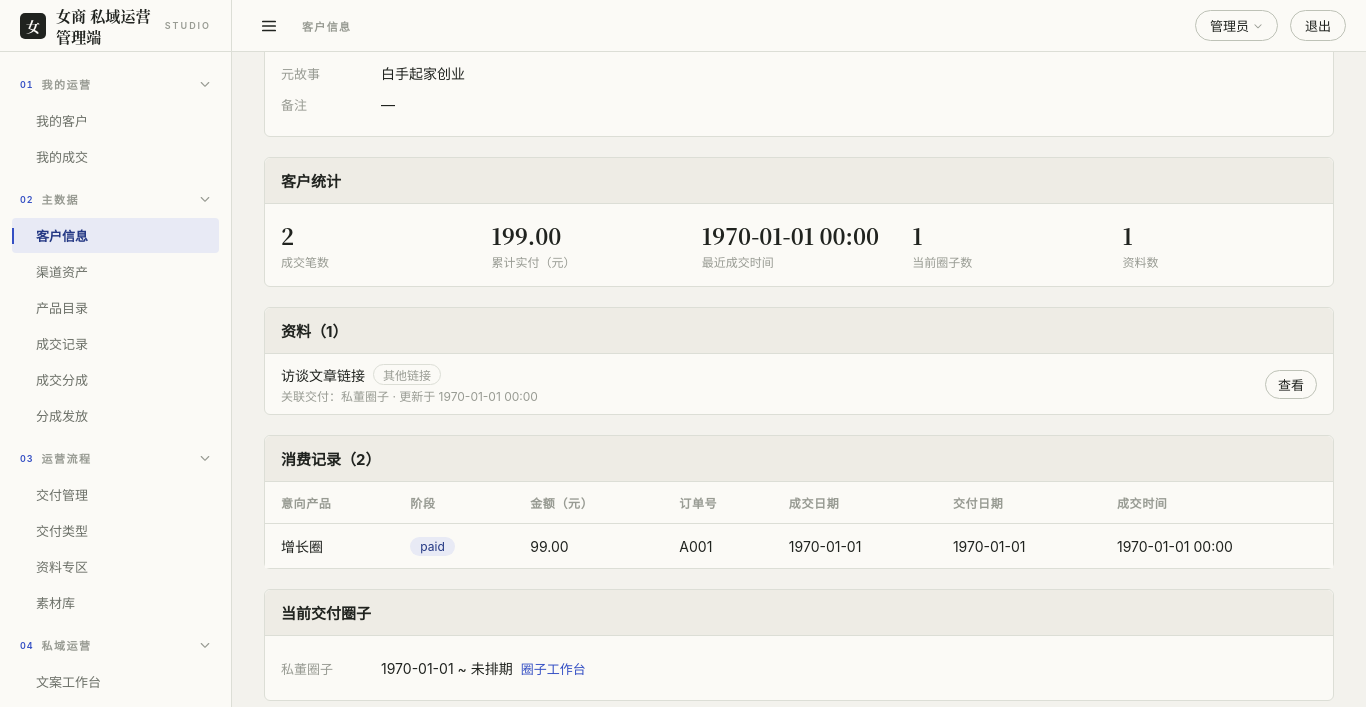
Test: 客户总览页 › K54 资料：统计区显示资料数，资料列表渲染并可打开查看弹窗
(page scrolled)
expect the text "资料数" is shown: met, box 1123,255 -> 1159,270
expect the 2nd text with class "stat-value" reads "1": met, box 1123,220 -> 1133,251
# 打开查看弹窗：先 GET /materials/41 拉全文
Click the button "查看" at [1291, 384], box 1265,370 -> 1317,398
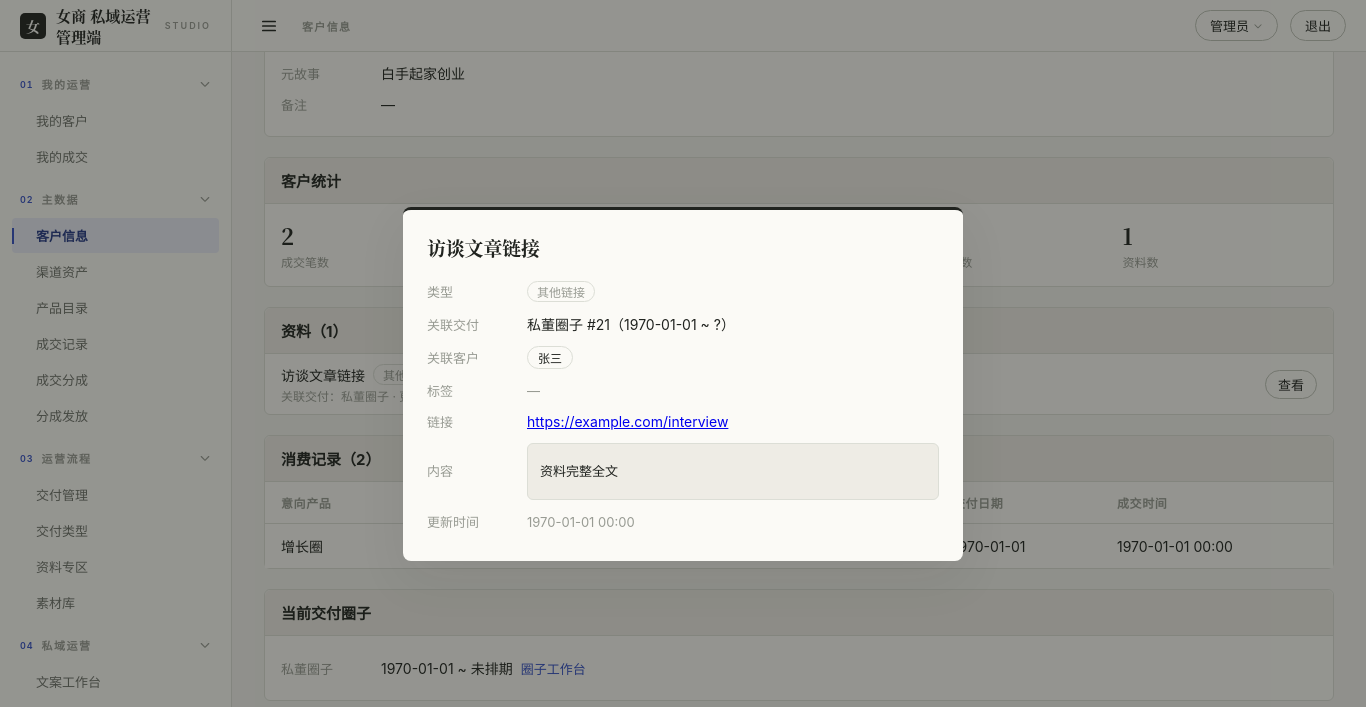
expect the link "https://example.com/interview" is shown: met, box 527,414 -> 728,430
